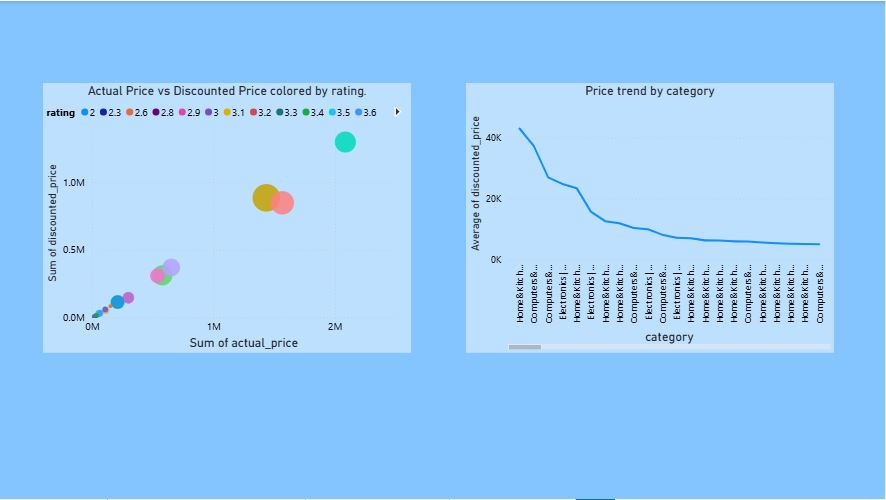

The dashboard page shown, as its layout file describes it:
{"tool":"powerbi","page":{"name":"Pricing Analysis","canvas":[1280,720],"ordinal":2},"visuals":[{"type":"scatterChart","title":"Actual Price vs Discounted Price colored by rating.","fields":{"X":["Sum(amazon.actual_price)"],"Y":["Sum(amazon.discounted_price)"],"Series":["amazon.rating"],"Size":["Sum(amazon.rating_count)"]},"box":[63.6,118.6,532,390.4],"z":0},{"type":"lineChart","title":"Price trend by category","fields":{"Category":["amazon.category"],"Y":["Avg(amazon.discounted_price)"]},"box":[675.2,118.6,532,390.4],"z":1000}]}

Visuals, with their boxes in screenshot pixels (x1, y1, x2, y2), scaled from the page's 1280x720 canvas onto the 886x500 screenshot:
"Actual Price vs Discounted Price colored by rating." scatterChart: region(44, 82, 412, 353)
"Price trend by category" lineChart: region(467, 82, 836, 353)
